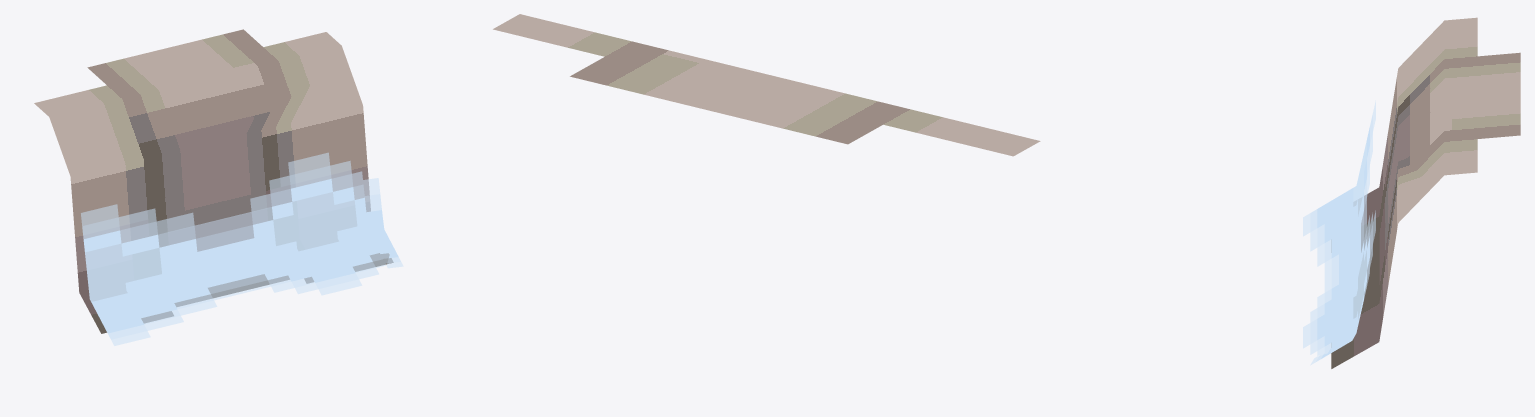
3 views of the same model, side by side, from view 1: azimuth 30°, elevation 25°; view 2: azimuth 150°, elevation 25°; view 3: azimuth 270°, elevation 25° (orthographic). The views are drawn at different scales.
Size of the model in its own units: 1 by 0.7266 by 0.7705.
Materials: 2 (2 with a texture image).
